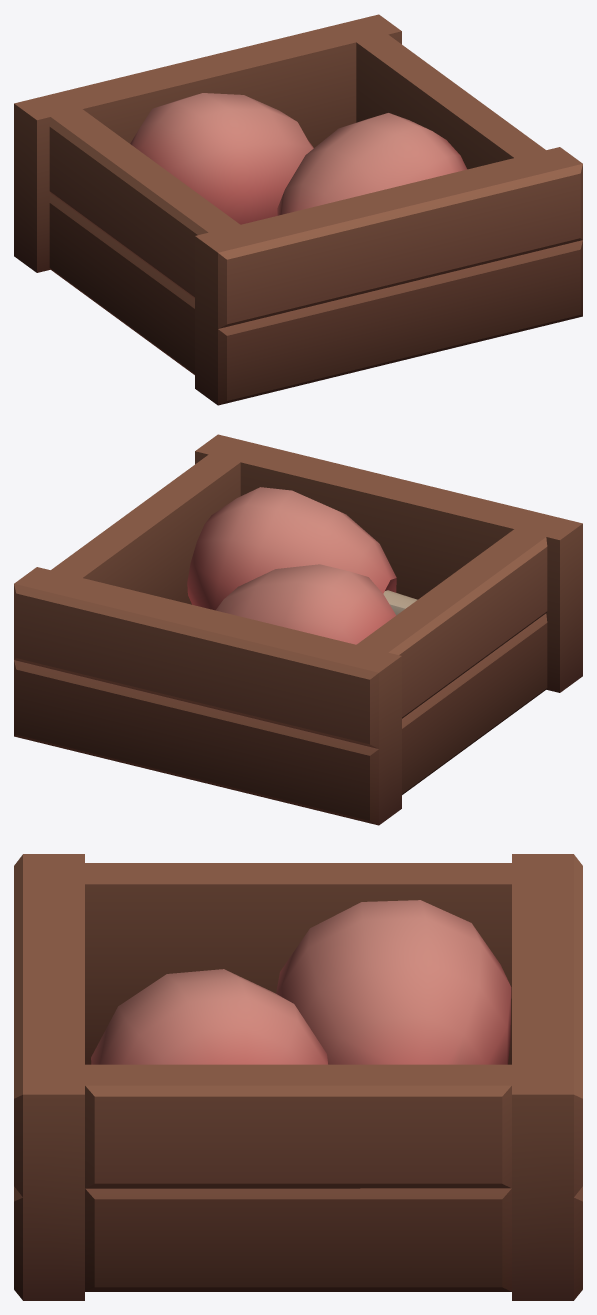
File: crate-ham.glb
The picture shows the model from 3 angles, top to bottom: view 1: azimuth 30°, elevation 25°; view 2: azimuth 150°, elevation 25°; view 3: azimuth 270°, elevation 25°; orthographic projection. The views are drawn at different scales.
Visible parts, largest first — view 1: crate-ham; view 2: crate-ham; view 3: crate-ham.
Boxes of the visible parts, bbox=[...] form: crate-ham: bbox=[14, 14, 582, 405]; crate-ham: bbox=[14, 434, 582, 825]; crate-ham: bbox=[14, 854, 582, 1300].
Bounding box in the file's own units: 1.01 × 0.45 × 1.01.
